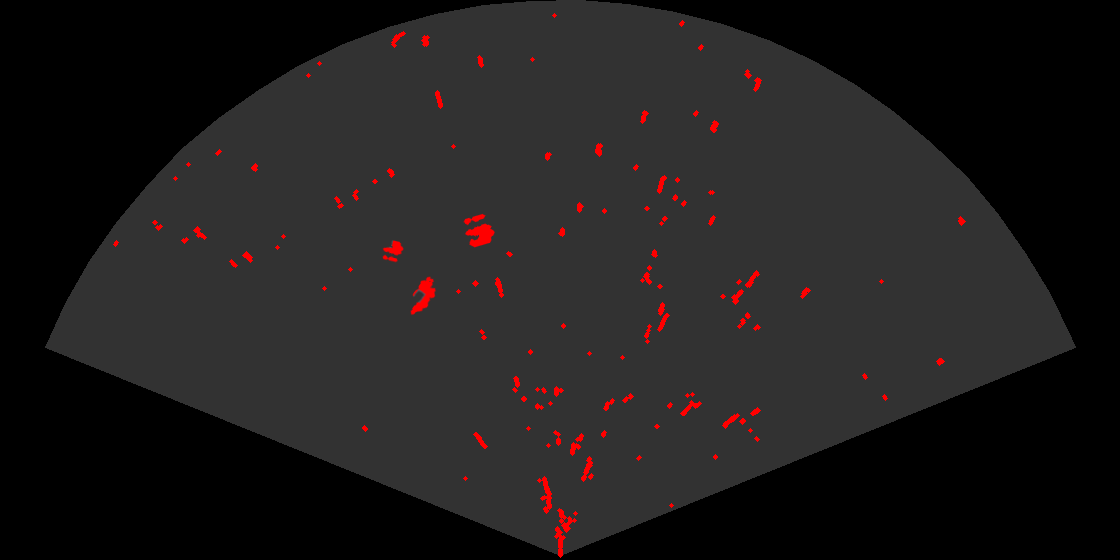AUV: (409, 275, 438, 317)
ball: (462, 212, 496, 249), (381, 239, 405, 264)
